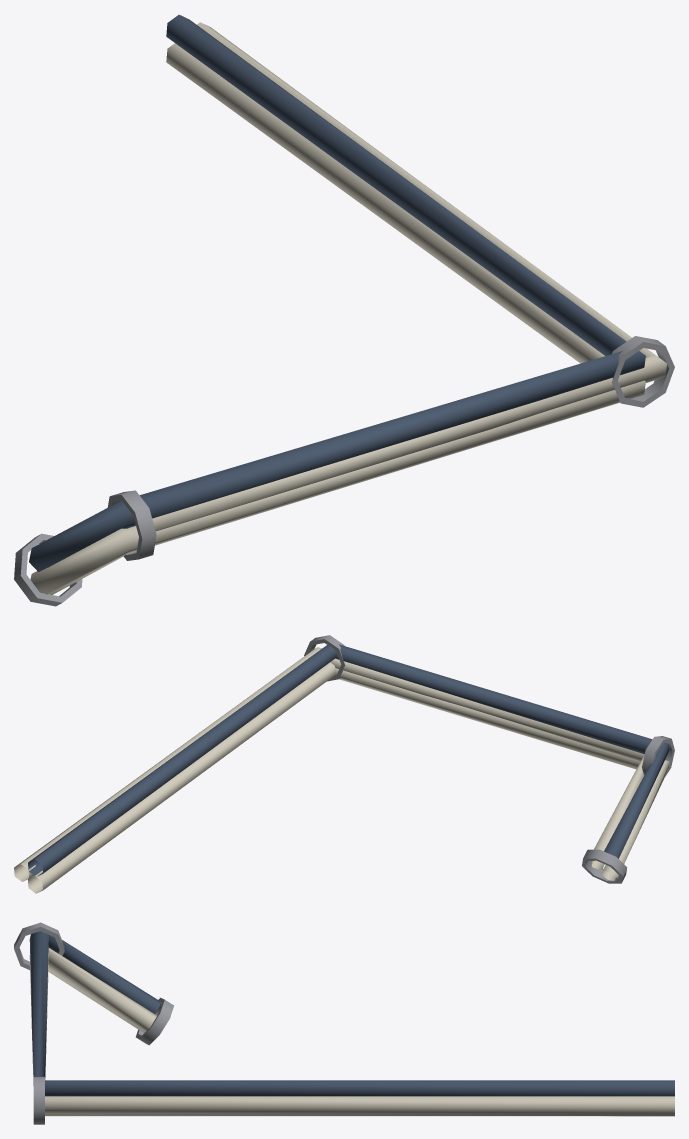
The model's file is kz6_duct.obj.
3 renders of one model, top to bottom at view 1: azimuth 30°, elevation 25°; view 2: azimuth 150°, elevation 25°; view 3: azimuth 270°, elevation 25°, orthographic. The views are drawn at different scales.
Parts seen in each view (by area): view 1: kz6_duct; view 2: kz6_duct; view 3: kz6_duct.
Boxes of the visible parts, x1=… form: kz6_duct: x1=14, y1=14, x2=674, y2=606; kz6_duct: x1=14, y1=635, x2=674, y2=893; kz6_duct: x1=14, y1=922, x2=674, y2=1124.
Bounding box in the file's own units: 0.798 × 0.2658 × 1.14.
